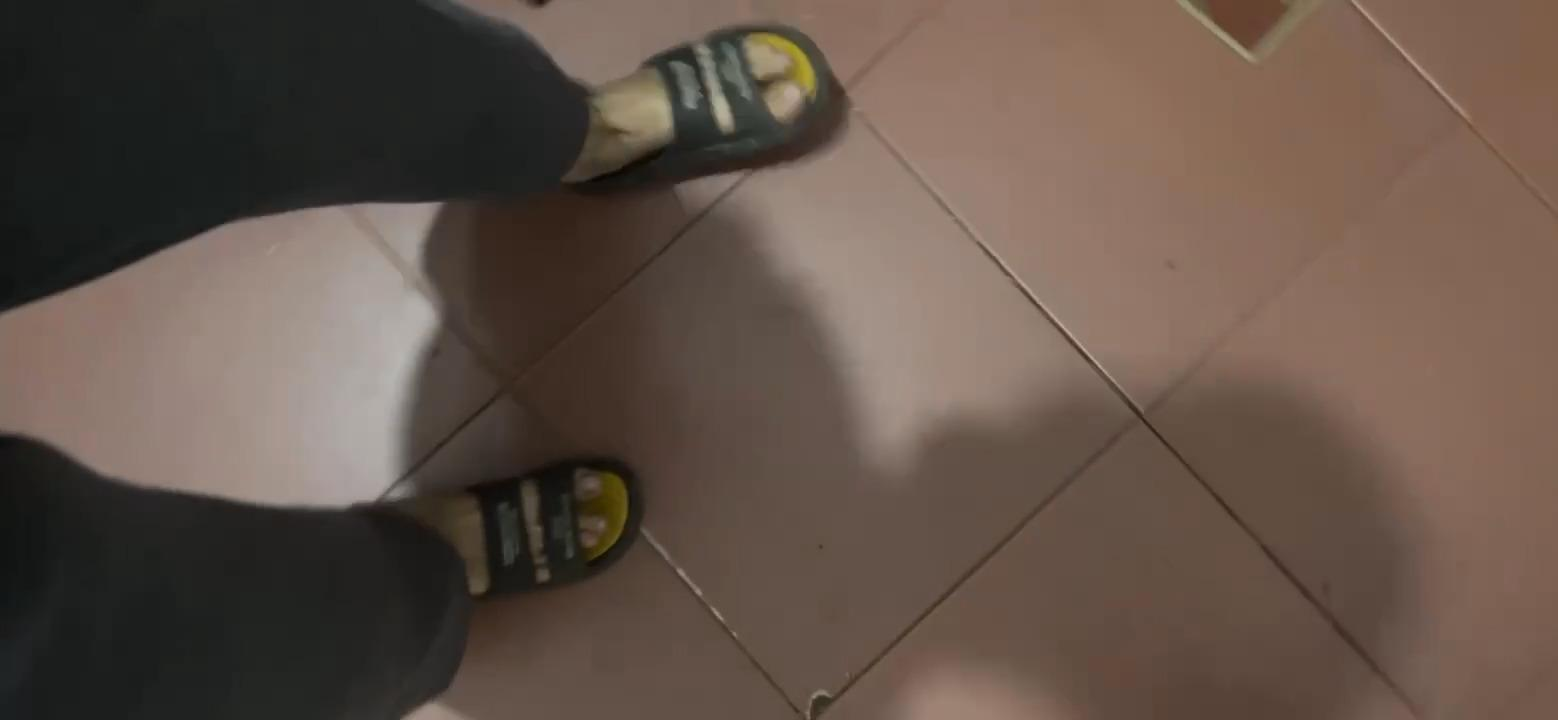no-boot: (589, 9, 836, 199), (371, 463, 647, 624)
